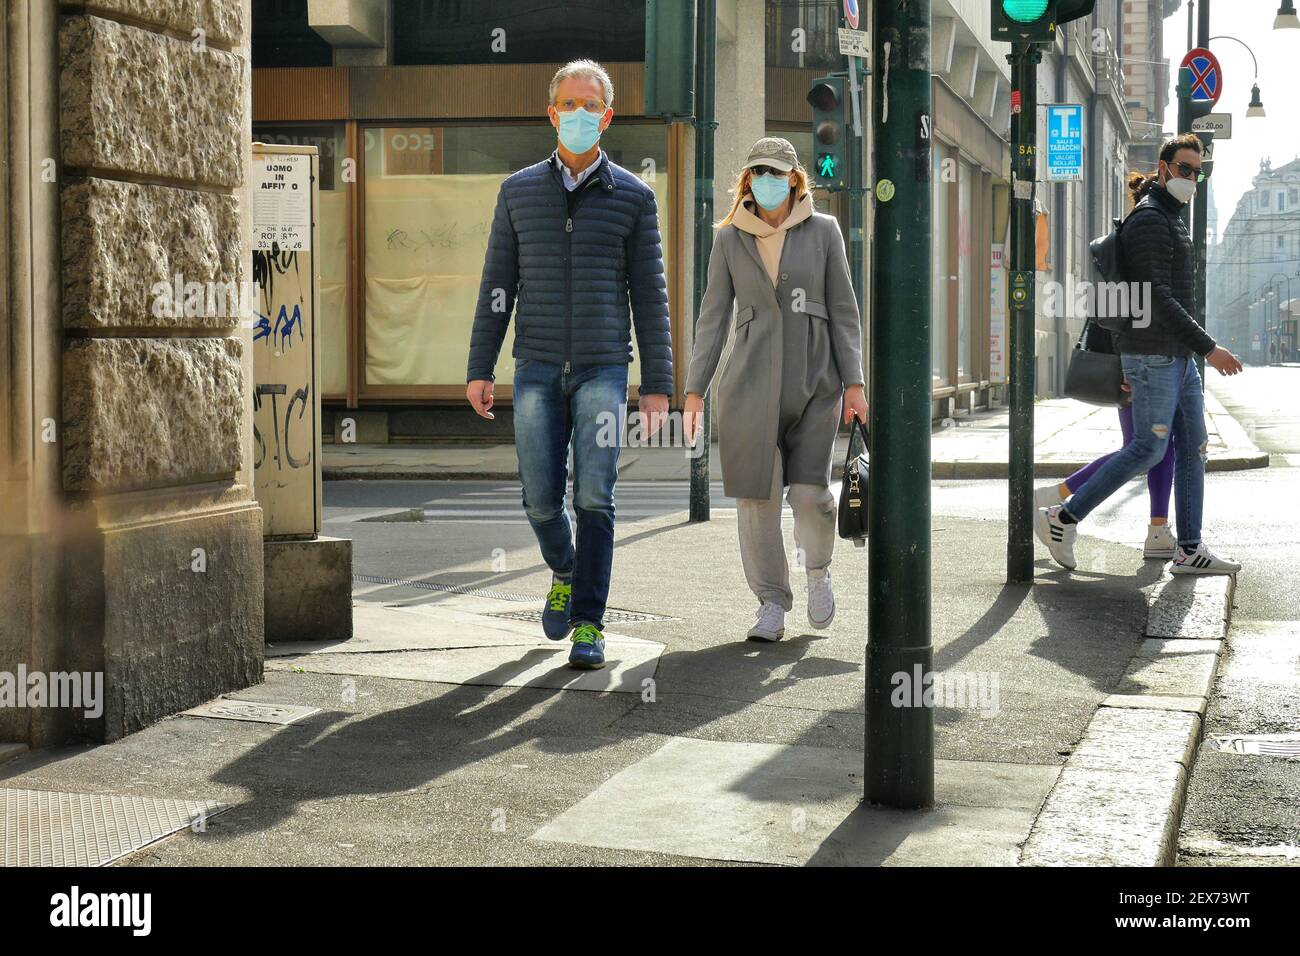person: (446, 60, 692, 703), (677, 126, 872, 668), (1035, 135, 1251, 608)
